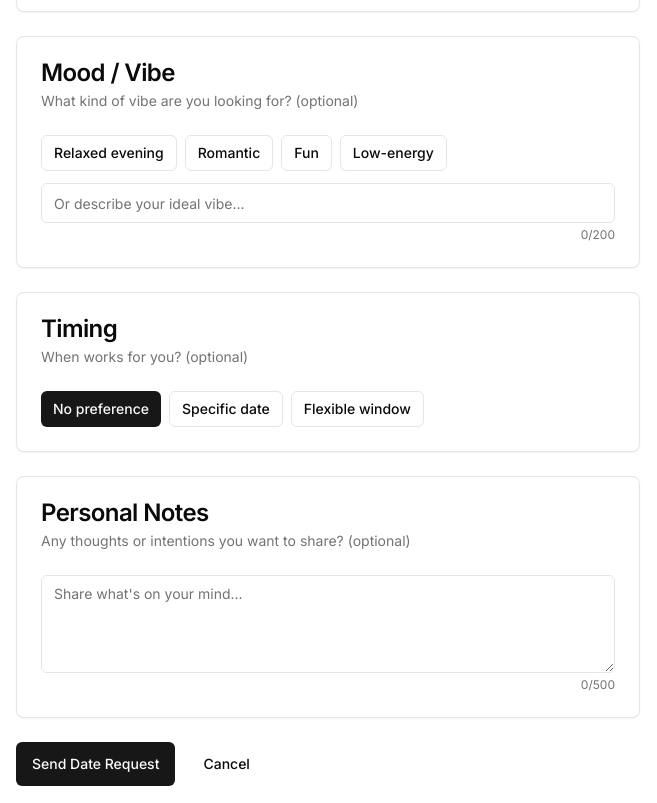
Test: DateRequestPage › shows character count for personal notes
(page scrolled)
expect the text "0/500" is shown: met, box [581,677,615,693]
In the text box with placeholder "Share what's on your mind...": [328, 624] box [41,575,615,673], type "Hello"
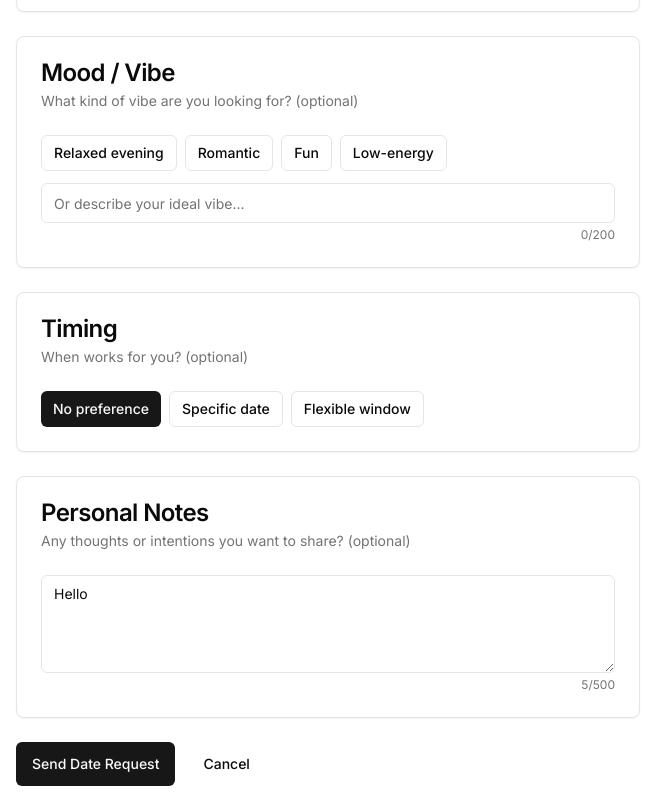
expect the text "5/500" is shown: met, box [581,677,615,693]
